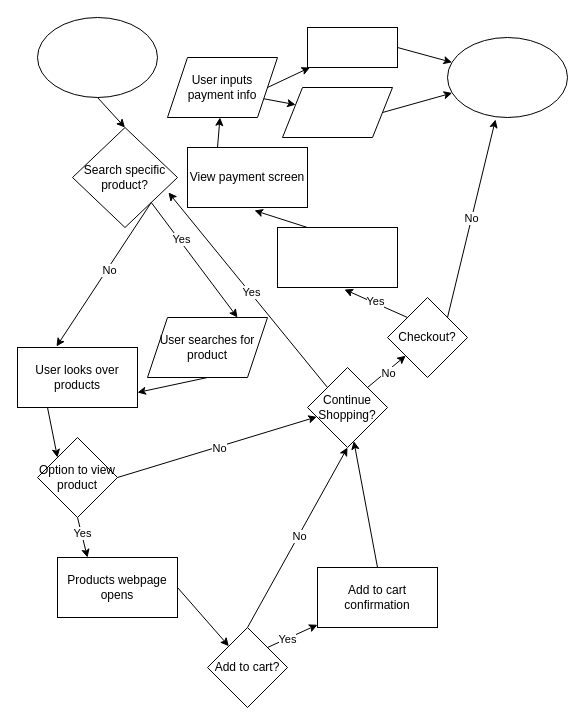
Some shapes in this 585 by 725 pixel diagram are drawn without their labels. Each missing label, with the box of its shape:
Confirmation screen: (306, 26, 398, 68)
Enter Website: (36, 16, 158, 98)
Exit: (446, 36, 568, 118)
User recieves confirmation email: (282, 86, 392, 138)
View cart screen: (276, 226, 398, 288)
